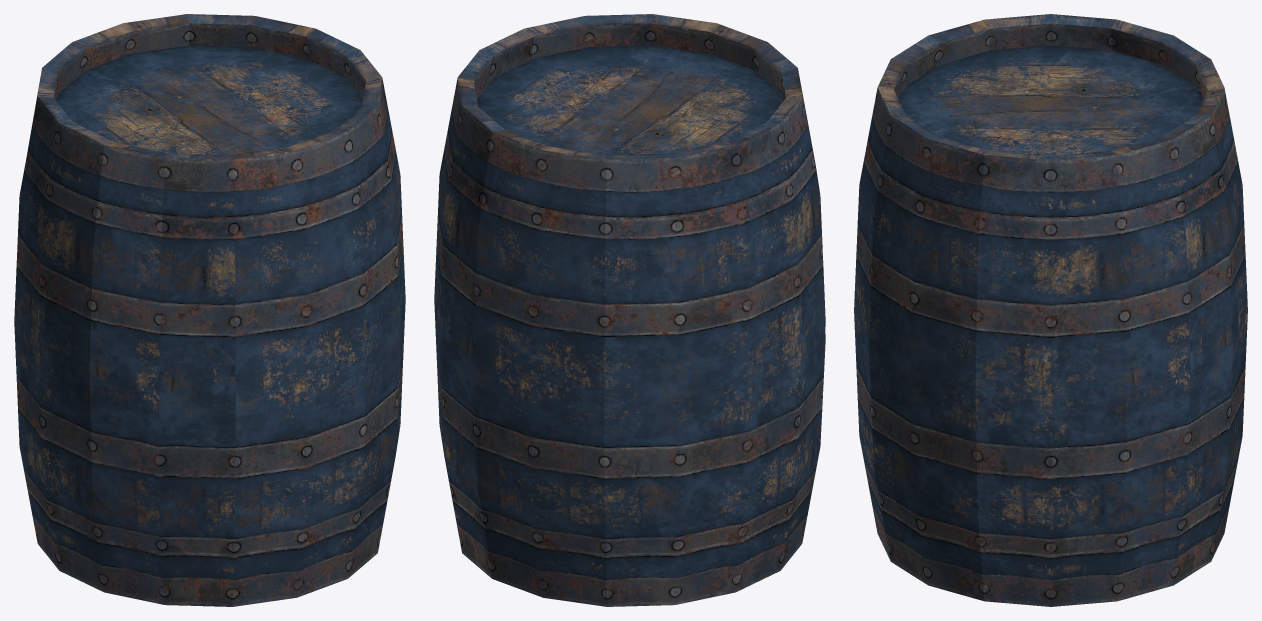
File: loot_container_barell_broken.FBX
The picture shows the model from 3 angles, left to right: view 1: azimuth 30°, elevation 25°; view 2: azimuth 150°, elevation 25°; view 3: azimuth 270°, elevation 25°; orthographic projection.
Visible parts, largest first — view 1: loot_container_barell_broken_elem_02, loot_container_barell_broken_elem_06, loot_container_barell_broken_elem_07, loot_container_barell_broken_elem_01, loot_container_barell_broken_elem_05, loot_container_barell_broken_elem_03, loot_container_barell_broken_elem_08, loot_container_barell_broken_elem_11, loot_container_barell_broken_elem_10, loot_container_barell_broken_elem_04; view 2: loot_container_barell_broken_elem_11, loot_container_barell_broken_elem_12, loot_container_barell_broken_elem_07, loot_container_barell_broken_elem_05, loot_container_barell_broken_elem_08, loot_container_barell_broken_elem_04, loot_container_barell_broken_elem_03, loot_container_barell_broken_elem_02, loot_container_barell_broken_elem_10, loot_container_barell_broken_elem_06; view 3: loot_container_barell_broken_elem_08, loot_container_barell_broken_elem_03, loot_container_barell_broken_elem_10, loot_container_barell_broken_elem_09, loot_container_barell_broken_elem_05, loot_container_barell_broken_elem_11, loot_container_barell_broken_elem_02, loot_container_barell_broken_elem_07, loot_container_barell_broken_elem_04, loot_container_barell_broken_elem_06.
Part boxes in pixels (bbox=[...]): loot_container_barell_broken_elem_02: bbox=[230, 130, 366, 606]; loot_container_barell_broken_elem_06: bbox=[90, 142, 235, 437]; loot_container_barell_broken_elem_07: bbox=[14, 96, 113, 591]; loot_container_barell_broken_elem_01: bbox=[90, 347, 235, 606]; loot_container_barell_broken_elem_05: bbox=[57, 45, 362, 155]; loot_container_barell_broken_elem_03: bbox=[335, 77, 405, 578]; loot_container_barell_broken_elem_08: bbox=[187, 14, 315, 59]; loot_container_barell_broken_elem_11: bbox=[72, 14, 189, 73]; loot_container_barell_broken_elem_10: bbox=[306, 28, 381, 98]; loot_container_barell_broken_elem_04: bbox=[28, 42, 84, 146]; loot_container_barell_broken_elem_11: bbox=[473, 130, 609, 606]; loot_container_barell_broken_elem_12: bbox=[604, 238, 750, 606]; loot_container_barell_broken_elem_07: bbox=[726, 96, 825, 591]; loot_container_barell_broken_elem_05: bbox=[477, 45, 782, 155]; loot_container_barell_broken_elem_08: bbox=[434, 77, 504, 578]; loot_container_barell_broken_elem_04: bbox=[605, 142, 746, 292]; loot_container_barell_broken_elem_03: bbox=[524, 14, 652, 59]; loot_container_barell_broken_elem_02: bbox=[650, 14, 767, 73]; loot_container_barell_broken_elem_10: bbox=[458, 28, 533, 98]; loot_container_barell_broken_elem_06: bbox=[755, 42, 825, 340]; loot_container_barell_broken_elem_08: bbox=[1111, 115, 1232, 601]; loot_container_barell_broken_elem_03: bbox=[869, 115, 990, 601]; loot_container_barell_broken_elem_10: bbox=[975, 151, 1126, 436]; loot_container_barell_broken_elem_09: bbox=[975, 357, 1126, 606]; loot_container_barell_broken_elem_05: bbox=[899, 45, 1202, 155]; loot_container_barell_broken_elem_11: bbox=[1196, 59, 1247, 560]; loot_container_barell_broken_elem_02: bbox=[854, 59, 905, 560]; loot_container_barell_broken_elem_07: bbox=[985, 14, 1116, 50]; loot_container_barell_broken_elem_04: bbox=[1111, 19, 1210, 97]; loot_container_barell_broken_elem_06: bbox=[891, 19, 990, 97].
Bounding box in the file's own units: 86.02 × 108 × 86.02.
